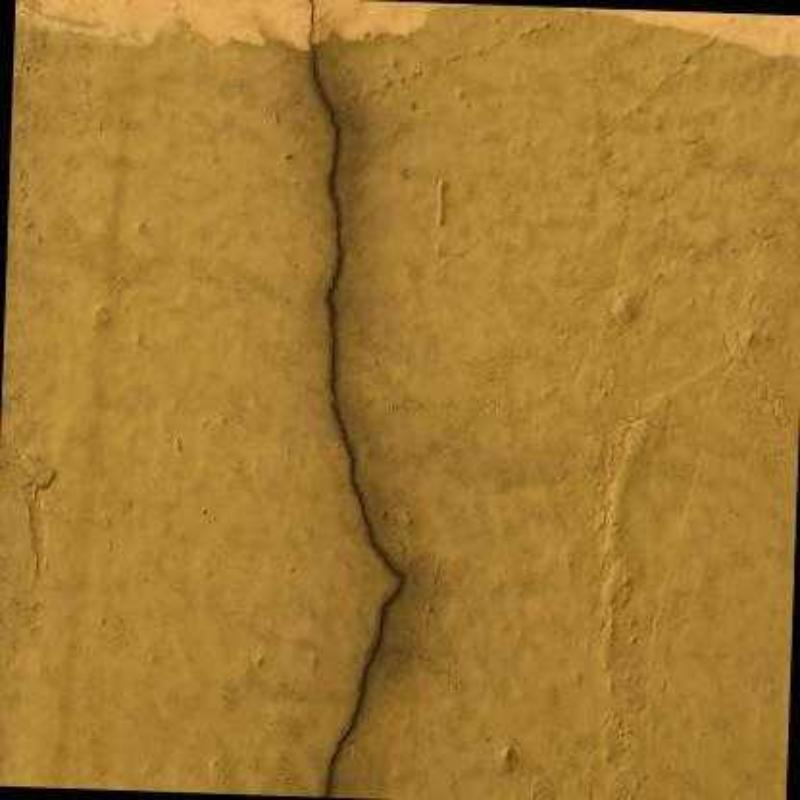pothole: (308, 0, 404, 798)
